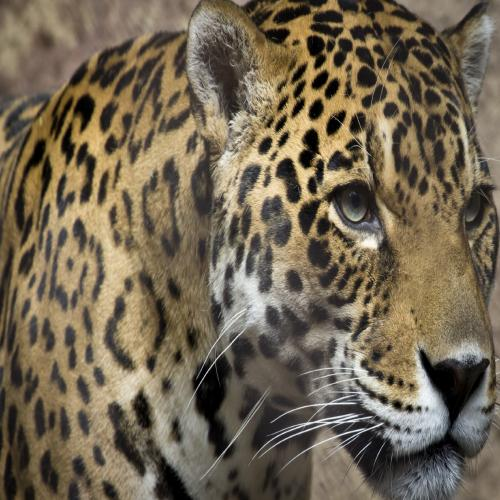jaguar_not-endangered: (4, 9, 492, 484)
